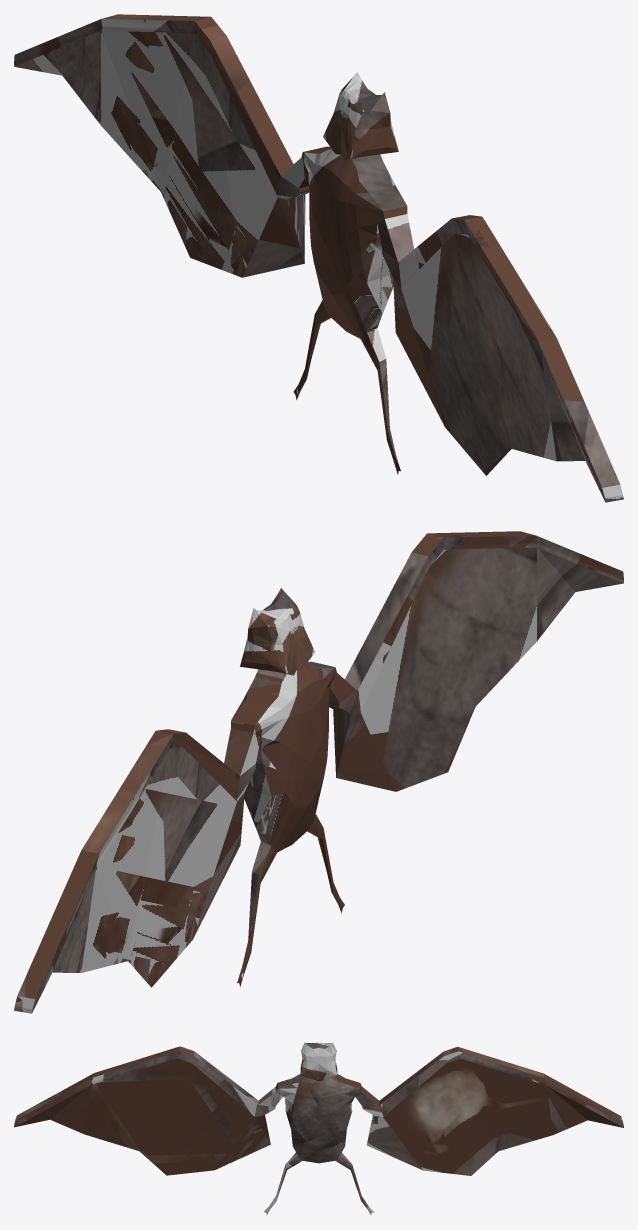
The model's file is Enemigo12.obj.
3 views of the same model, one above another, from view 1: azimuth 30°, elevation 25°; view 2: azimuth 150°, elevation 25°; view 3: azimuth 270°, elevation 25° (orthographic). The views are drawn at different scales.
Visible parts, largest first — view 1: Plano; view 2: Plano; view 3: Plano.
Part boxes in pixels (<box>): Plano: <box>14,14,623,502</box>; Plano: <box>14,531,623,1013</box>; Plano: <box>14,1042,623,1215</box>.
Bounding box in the file's own units: 0.1742 × 0.7578 × 2.34.
1 material, 1 textured.
